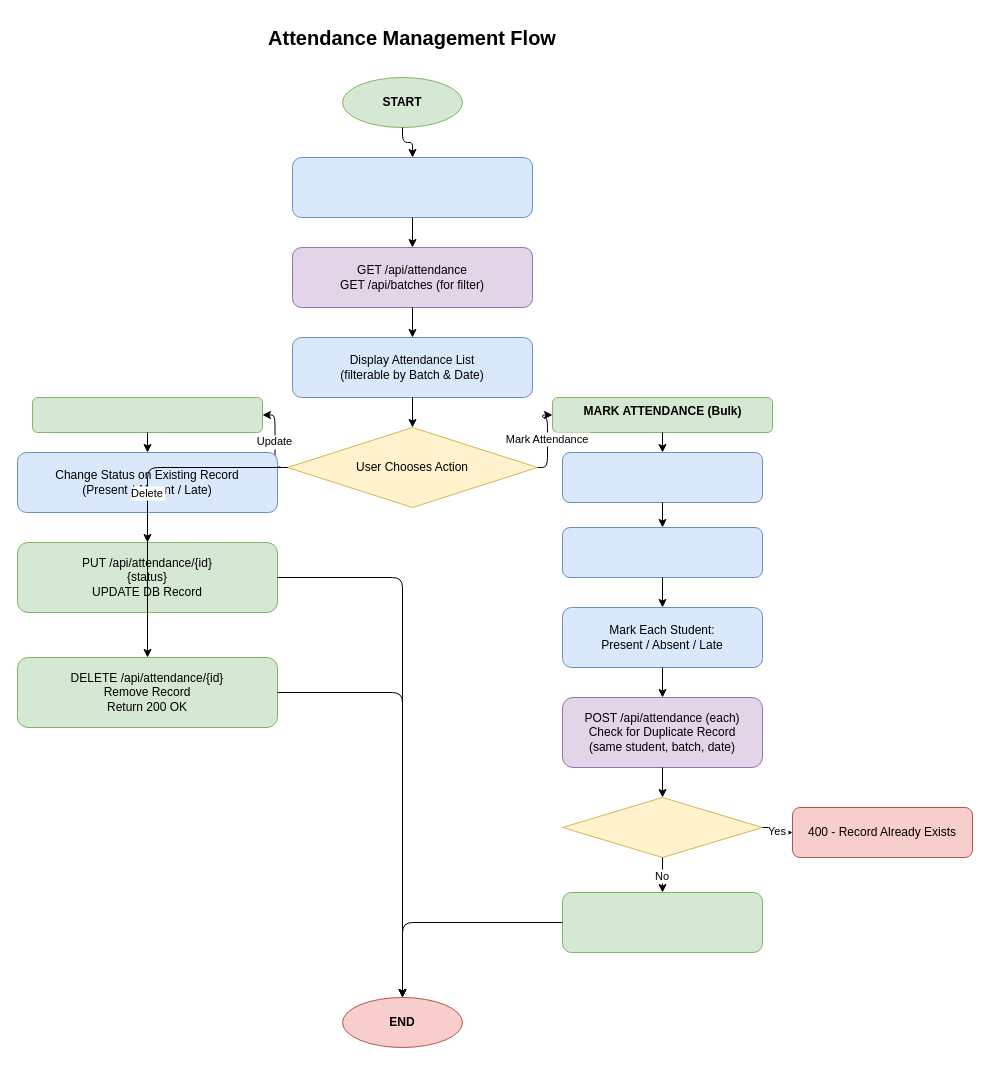
Some shapes in this 990 by 1065 pixel diagram are drawn without their labels. The shapes that lost their labels are listed below. From the top down, each one's centre as x and y in pixels, then its label:
At (412,187): "Navigate to Attendance Page (Protected Route)".
At (147,414): "UPDATE ATTENDANCE STATUS".
At (662,477): "Select Batch & Date".
At (662,552): "Load Students for Batch".
At (662,827): "Duplicate Entry?".
At (662,922): "INSERT Attendance Record Return 201 Created".
